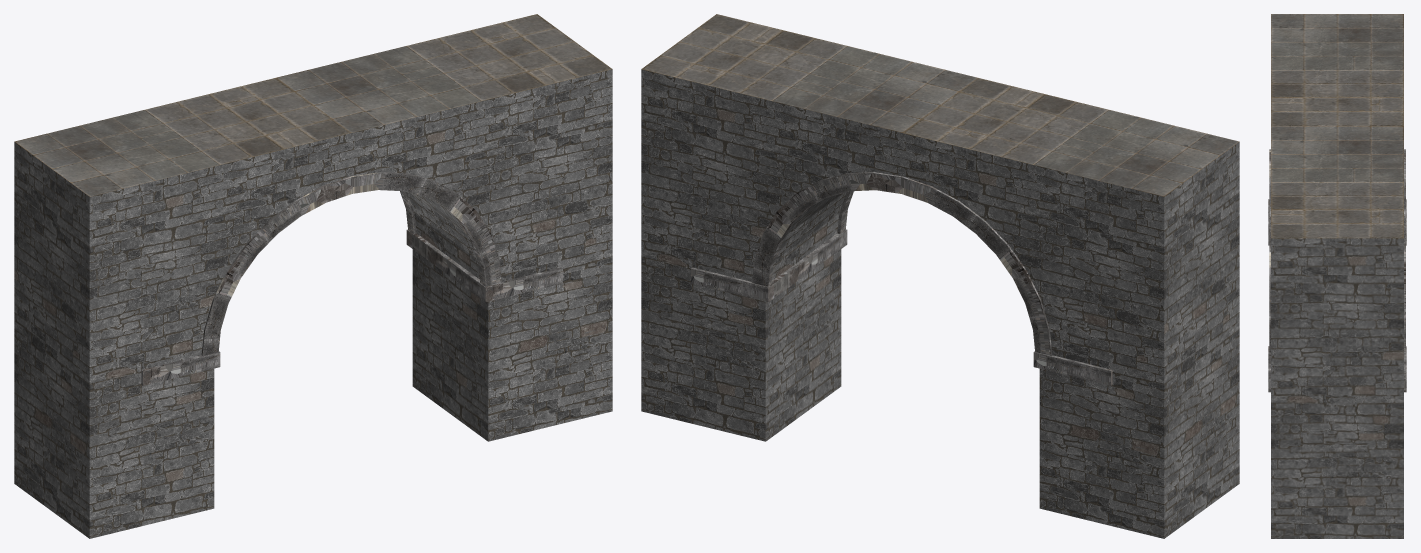
File: MC_Castle_Wall_Arch_01.fbx
3 renders of one model, left to right at view 1: azimuth 30°, elevation 25°; view 2: azimuth 150°, elevation 25°; view 3: azimuth 270°, elevation 25°, orthographic. The views are drawn at different scales.
Visible parts, largest first — view 1: MC_Castle_Wall_Arch_01_LOD0; view 2: MC_Castle_Wall_Arch_01_LOD0; view 3: MC_Castle_Wall_Arch_01_LOD0.
Boxes of the visible parts, x1,y1,x2,y2 form: MC_Castle_Wall_Arch_01_LOD0: (14, 14, 612, 538); MC_Castle_Wall_Arch_01_LOD0: (641, 14, 1239, 538); MC_Castle_Wall_Arch_01_LOD0: (1268, 14, 1406, 538).
Size of what is drawn, in the model's own units: 1600 by 1000 by 418.
